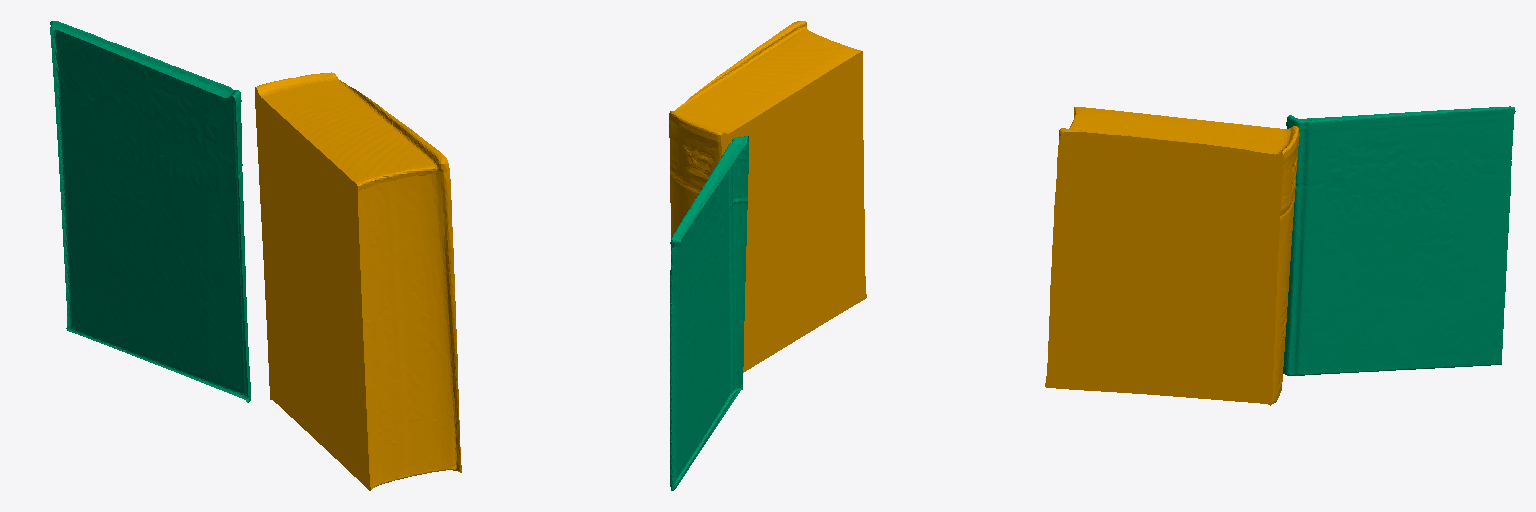
URDF robot description (book):
<?xml version="1.0"?>
<robot name="book">
  <link name ="rb0">
    <visual>
      <origin xyz='0.114733 -0.044798 -0.125005' rpy='0.235378 -1.472020 -1.942373'/>
      <geometry>
        <mesh filename="package://articulated_objects_db/data/objects/book/meshes/book_bottom.dae"  scale="1 1 1" />
      </geometry>
    </visual>
  </link>
  <joint name="j_0_1" type="revolute">
    <parent link="rb0"/>
    <child link="rb1"/>
    <origin xyz="-0.0243083470999 0.0882301176908 -0.0226297474103" rpy="0 0 0 "/>
    <axis xyz="-0.0154803942539 0.0328616666867 0.999340016339"/>
    <limit effort="30" velocity="1.0" lower="-3.1416" upper="3.1416"/>
  </joint>
  <joint name="j_0_fixed" type="fixed">
    <parent link="rb1"/>
    <child link="rb1_marker"/>
      <origin xyz="-0.047603888393 0.186860290786 -0.00745502591569" rpy="-1.5857036649 -0.0472023600393 -0.226381254476"/>
    <limit effort="30" velocity="1.0" lower="-3.1416" upper="3.1416"/>
  </joint>
  <link name ="rb1">
  </link>
  <link name ="rb1_marker">
    <visual>
      <origin xyz='-0.033606 0.111992 -0.131134' rpy='-2.687362 -0.140623 -1.633955'/>
      <geometry>
        <mesh filename="package://articulated_objects_db/data/objects/book/meshes/book_top.dae"  scale="1 1 1" />
      </geometry>
    </visual>
  </link>
</robot>

--- Facts derived from the render (not from the file) ---
3 views of the same robot in one strip: view 1: azimuth 30°, elevation 25°; view 2: azimuth 150°, elevation 25°; view 3: azimuth 270°, elevation 25° (orthographic).
Model book with 3 links and 2 joints (1 revolute, 1 fixed), rooted at rb0, posed every joint at zero.
Visible links, largest first — view 1: rb0, rb1_marker; view 2: rb0, rb1_marker; view 3: rb0, rb1_marker.
Boxes of the visible links, x1,y1,x2,y2 form: rb0: (255,72,461,490); rb1_marker: (50,21,250,402); rb0: (669,21,866,372); rb1_marker: (670,136,748,490); rb0: (1045,107,1299,405); rb1_marker: (1283,106,1515,375).
Size in the robot's own frame: 0.1295 by 0.4165 by 0.2737 metres.
2 mesh visuals loaded from 2 distinct referenced files (2 Collada DAE).